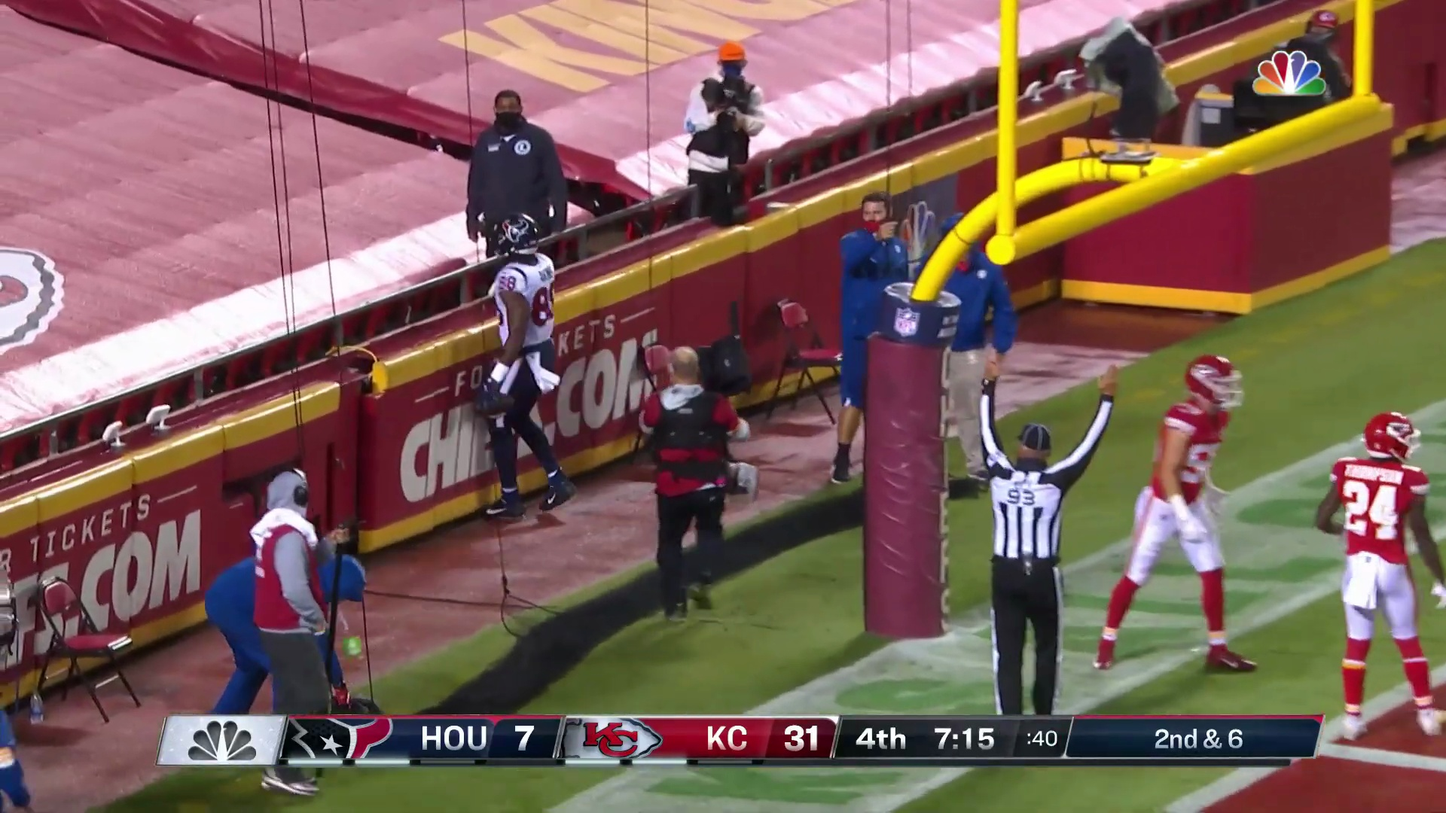Player: (1335, 401, 1441, 740)
